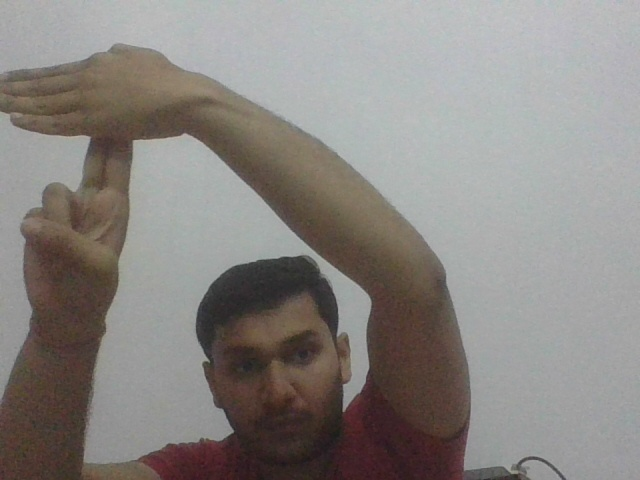N: (1, 44, 180, 194)
